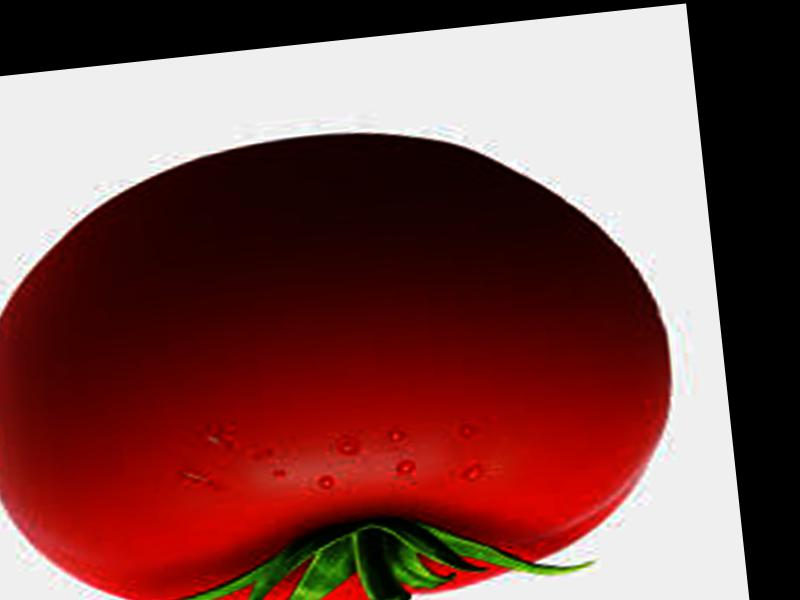Tomato: (36, 100, 692, 600)
